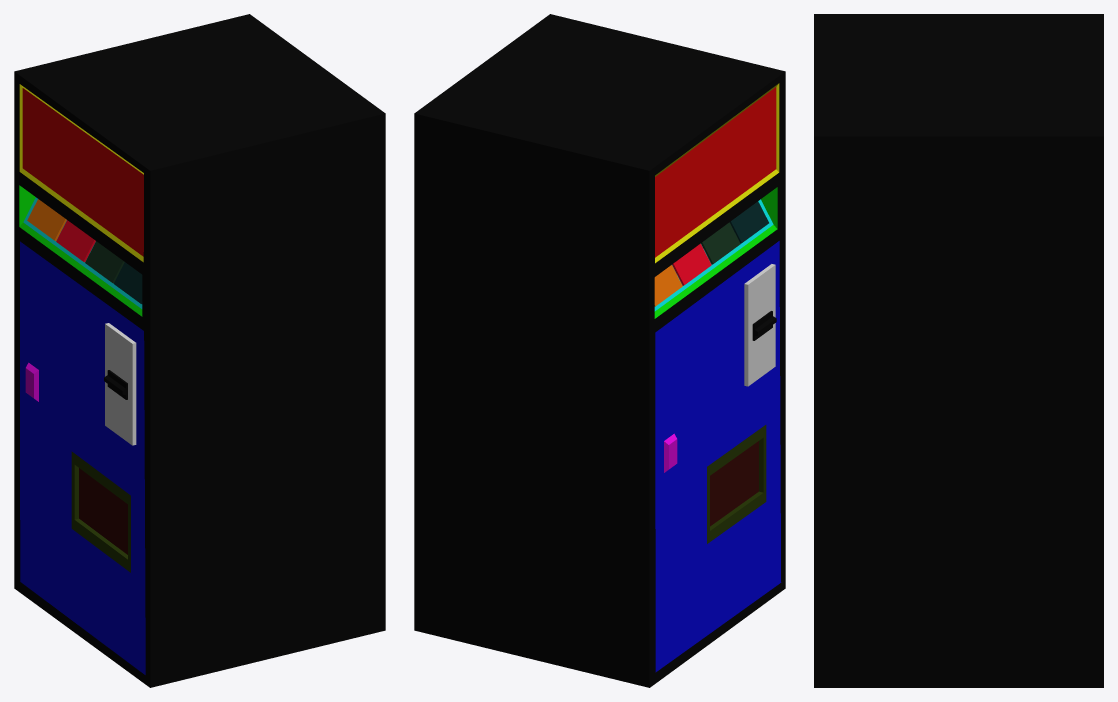
The model's file is sm_vintagedrinkmachine 1.fbx.
3 renders of one model, left to right at view 1: azimuth 30°, elevation 25°; view 2: azimuth 150°, elevation 25°; view 3: azimuth 270°, elevation 25°, orthographic. The views are drawn at different scales.
Visible parts, largest first — view 1: VintageDrinkMachine2; view 2: VintageDrinkMachine2; view 3: VintageDrinkMachine2.
Part boxes in pixels (x1,y1,x2,y2): VintageDrinkMachine2: (14, 14, 385, 687); VintageDrinkMachine2: (414, 14, 785, 687); VintageDrinkMachine2: (814, 14, 1103, 687).
Bounding box in the file's own units: 208 × 420 × 200.
